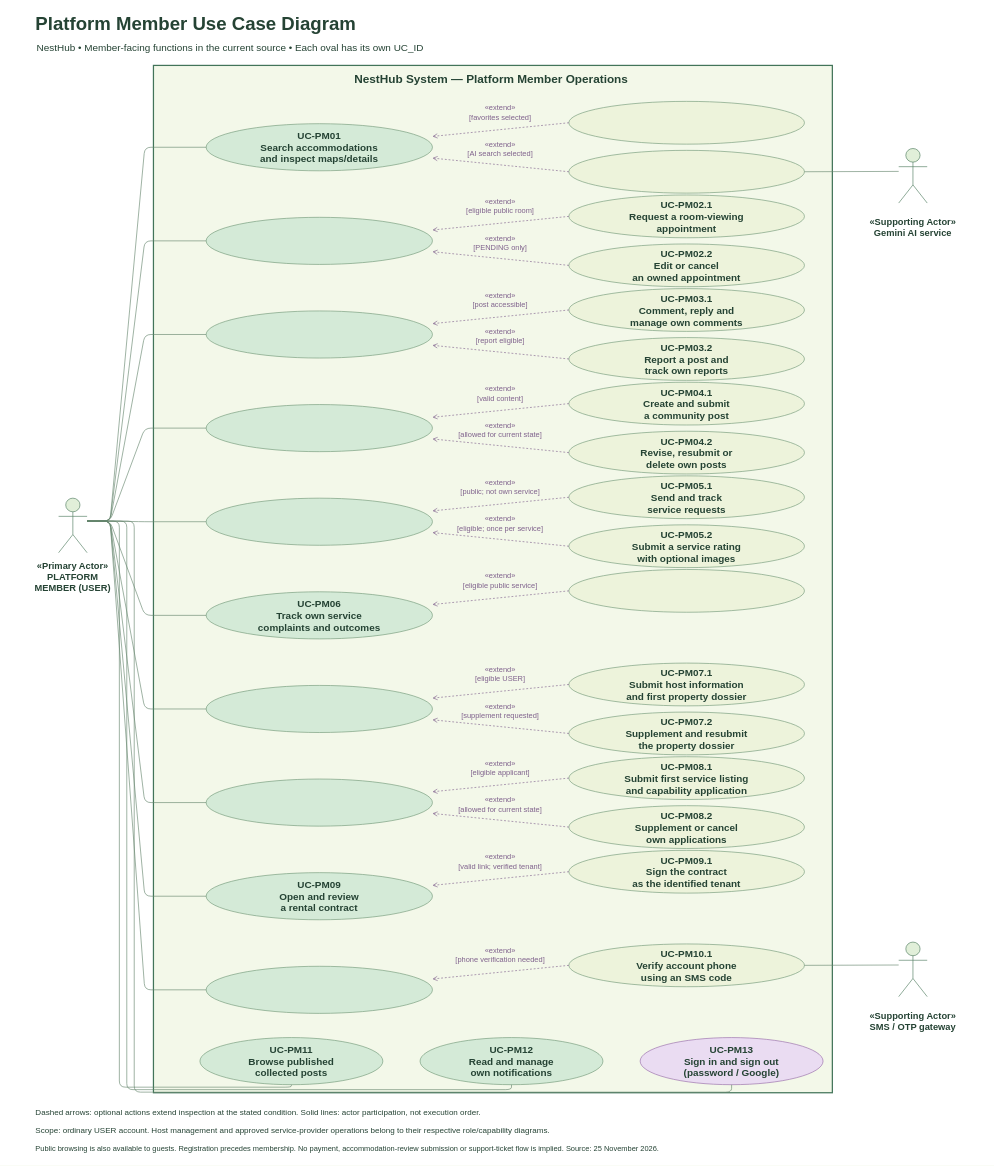
The diagram is 994 pixels wide and 1166 high, and some of its shapes have lost their labels. The shapes that lost their labels are listed below. From the top down, each one's box as (x1, y1, x2, y2) in pixels, then its label:
(568, 101, 804, 144): UC-PM01.1 Manage and compare favorite room types
(568, 150, 804, 193): UC-PM01.2 Get accommodation recommendations from a needs description
(206, 217, 432, 264): UC-PM02 Track room-viewing appointments
(206, 310, 432, 358): UC-PM03 Browse community posts and discussions
(206, 404, 432, 452): UC-PM04 Manage own community posts and review status
(206, 498, 432, 545): UC-PM05 Discover services and inspect provider details
(568, 569, 804, 612): UC-PM06.1 Report a service with optional evidence
(206, 685, 432, 733): UC-PM07 Track host-onboarding application and feedback
(206, 778, 432, 826): UC-PM08 Track service-provider application and feedback
(206, 966, 432, 1013): UC-PM10 Manage own profile and credentials
